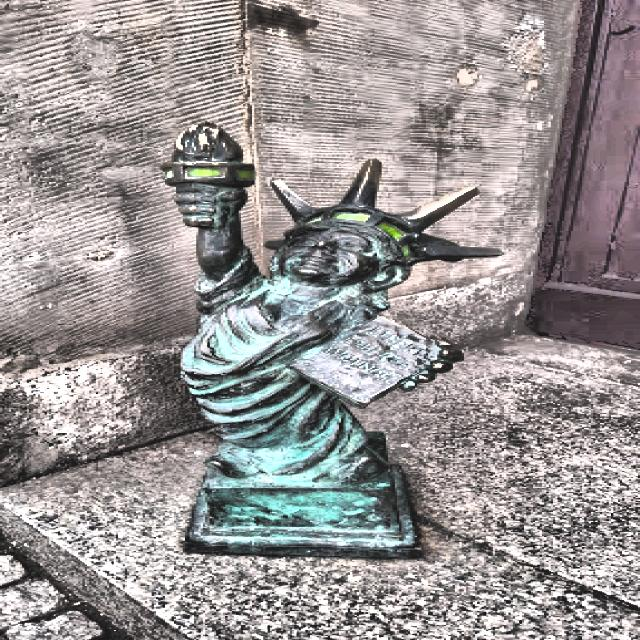LadyWolnosc: (162, 124, 500, 557)
